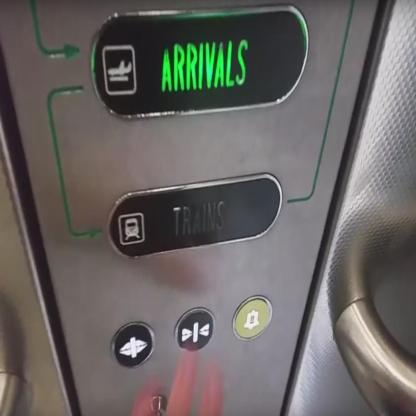alarm: (231, 294, 274, 341)
close: (173, 306, 216, 354)
open: (110, 318, 156, 371)
